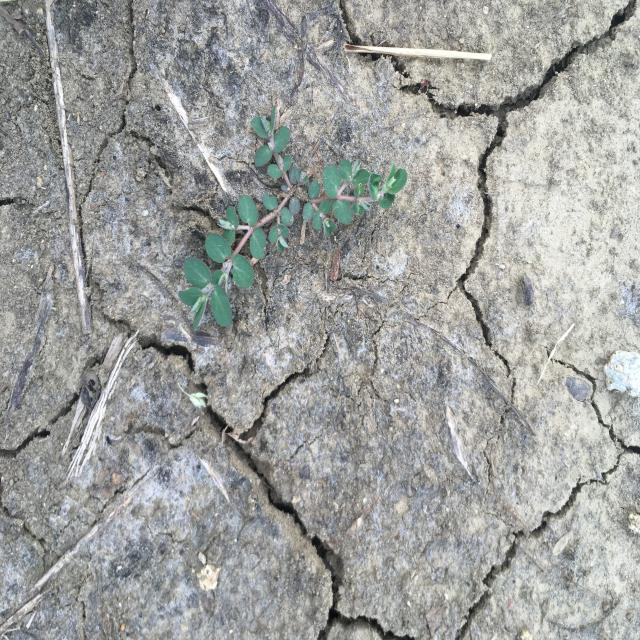SpottedSpurge: (176, 104, 410, 334)
